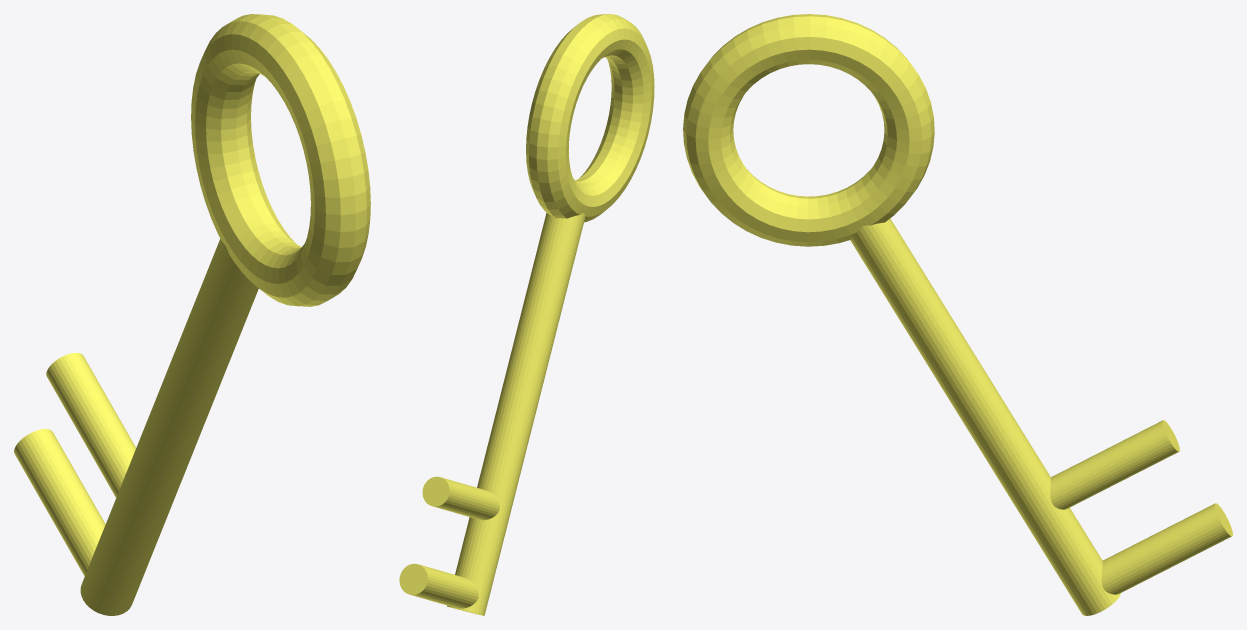
File: key.fbx
3 views of the same model, side by side, from view 1: azimuth 30°, elevation 25°; view 2: azimuth 150°, elevation 25°; view 3: azimuth 270°, elevation 25° (orthographic). The views are drawn at different scales.
Parts seen in each view (by area): view 1: 円柱.002; view 2: 円柱.002; view 3: 円柱.002.
Boxes of the visible parts, <box> form: 円柱.002: <box>14,14,370,615</box>; 円柱.002: <box>399,14,654,615</box>; 円柱.002: <box>683,14,1232,615</box>.
Bounding box in the file's own units: 50 × 653 × 546.
